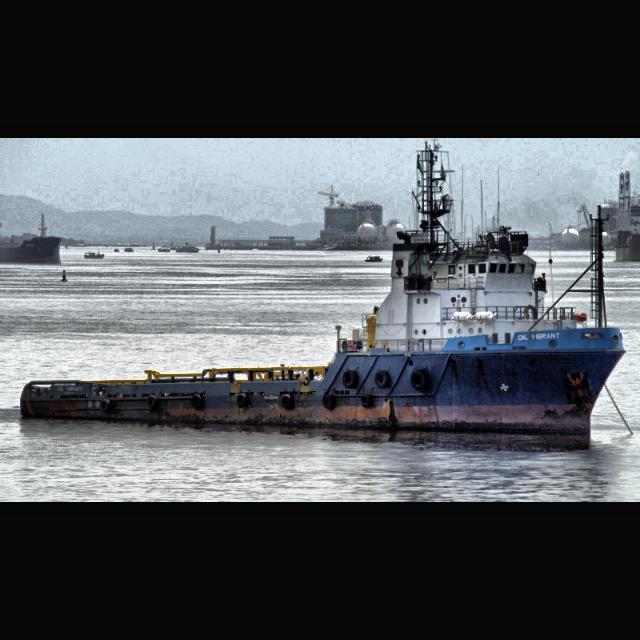anchor_handling_tug_supply: (17, 207, 628, 433)
